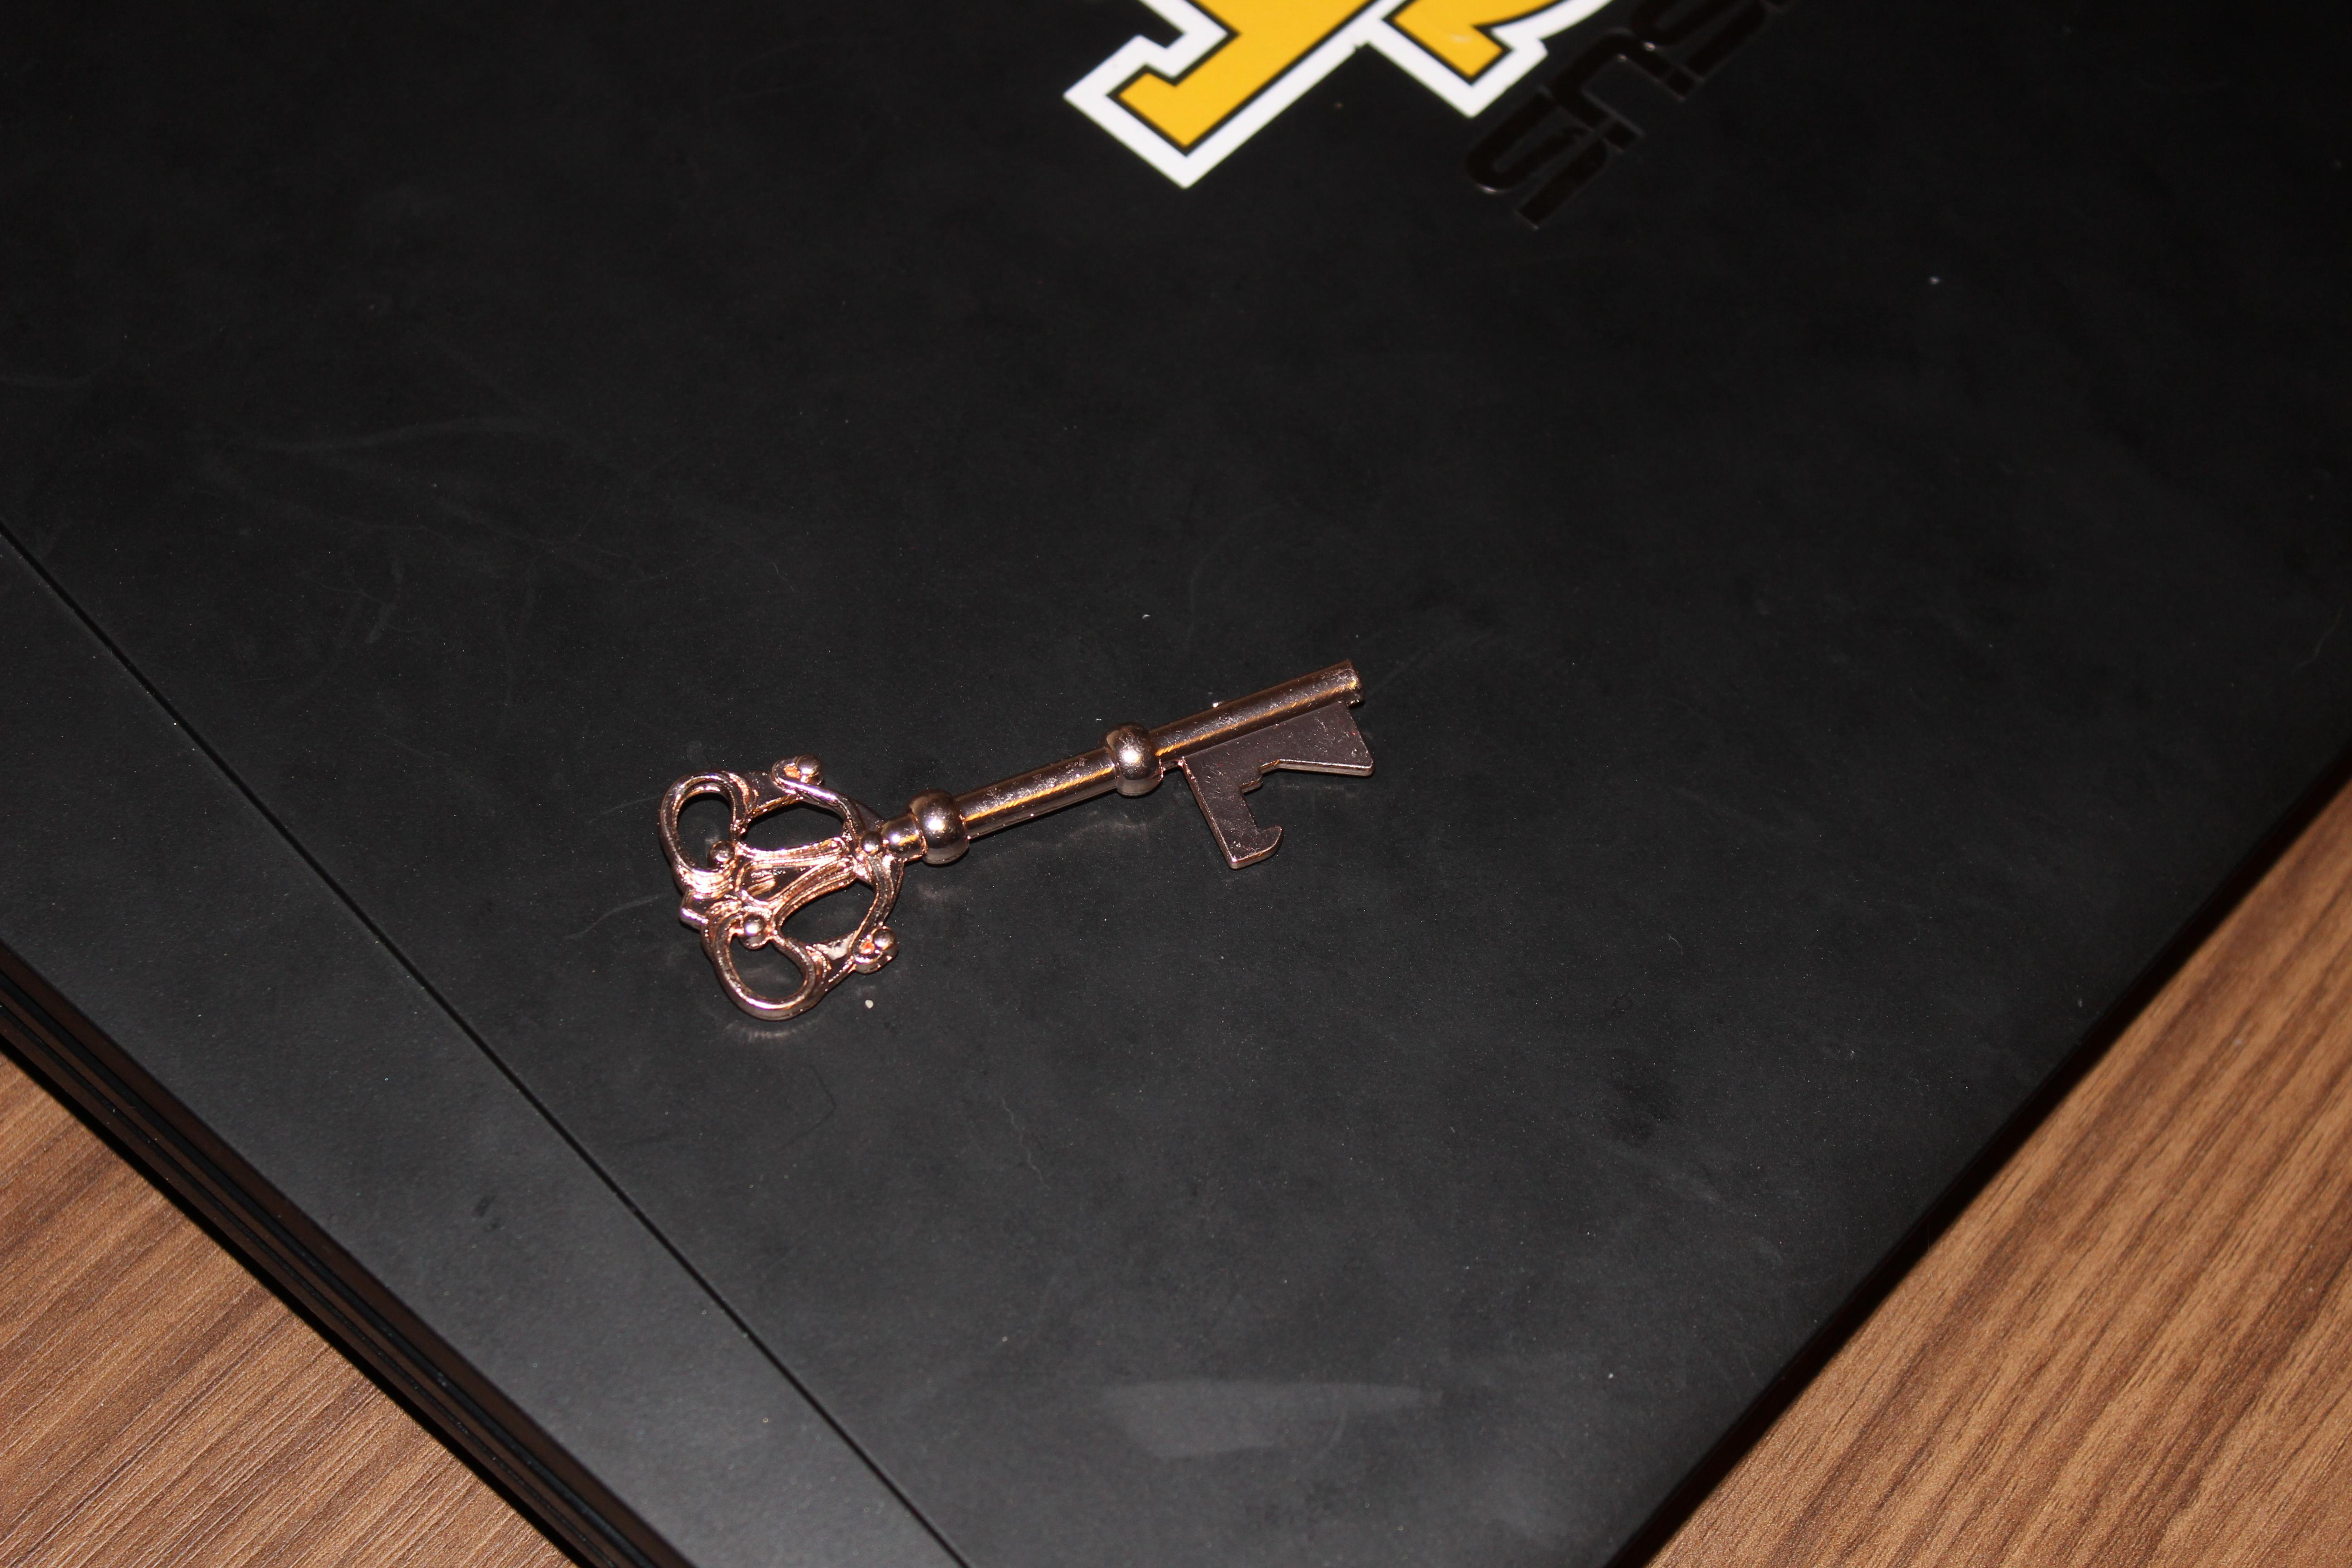metalKey: (639, 644, 1424, 1060)
